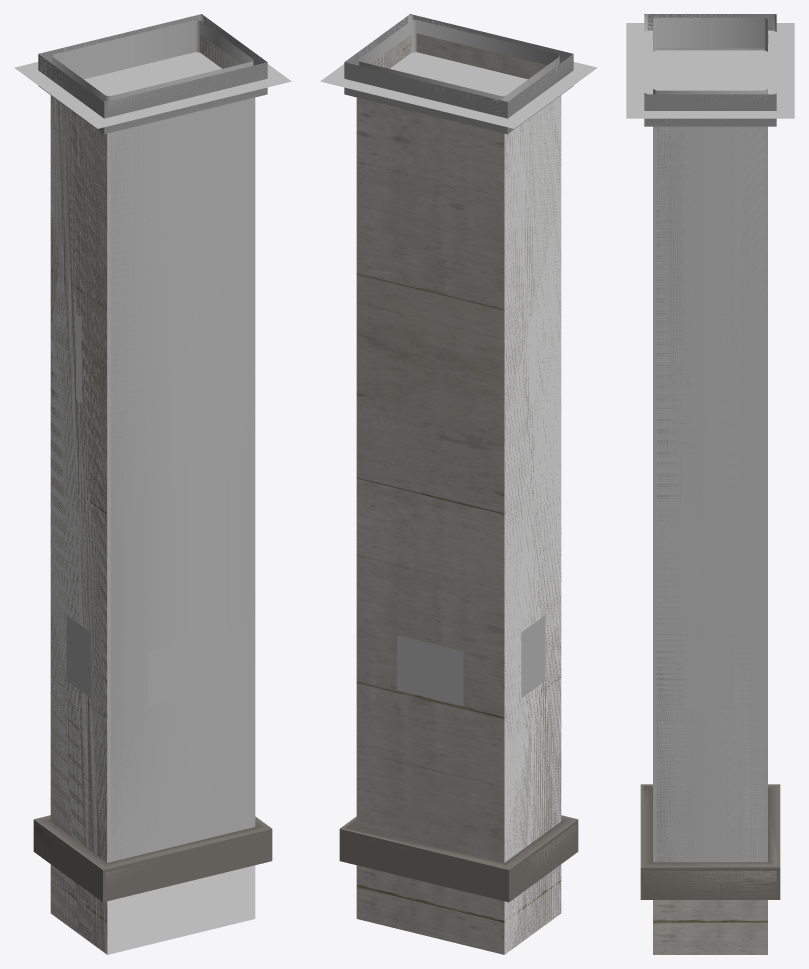
The model's file is s_fuel_structure_07.dae.
3 renders of one model, left to right at view 1: azimuth 30°, elevation 25°; view 2: azimuth 150°, elevation 25°; view 3: azimuth 270°, elevation 25°, orthographic.
Parts seen in each view (by area): view 1: s_fuel_structure_07_L300, s_fuel_structure_07_L100, s_fuel_structure_07_L40, Colmesh_s_fuel_structure_07-1; view 2: Colmesh_s_fuel_structure_07-1, s_fuel_structure_07_L40, s_fuel_structure_07_L100, s_fuel_structure_07_L300; view 3: s_fuel_structure_07_L100, s_fuel_structure_07_L300, Colmesh_s_fuel_structure_07-1.
Boxes of the visible parts, left/top/right/bottom form: s_fuel_structure_07_L300: left=14, top=15, right=291, bottom=900; s_fuel_structure_07_L100: left=33, top=14, right=272, bottom=902; s_fuel_structure_07_L40: left=50, top=35, right=255, bottom=954; Colmesh_s_fuel_structure_07-1: left=50, top=34, right=238, bottom=954; Colmesh_s_fuel_structure_07-1: left=356, top=33, right=561, bottom=954; s_fuel_structure_07_L40: left=373, top=38, right=561, bottom=954; s_fuel_structure_07_L100: left=339, top=14, right=578, bottom=902; s_fuel_structure_07_L300: left=320, top=14, right=597, bottom=882; s_fuel_structure_07_L100: left=640, top=14, right=780, bottom=899; s_fuel_structure_07_L300: left=626, top=14, right=794, bottom=899; Colmesh_s_fuel_structure_07-1: left=653, top=900, right=767, bottom=954.
Size of the model in its own units: 1.26 by 0.9405 by 5.32.
